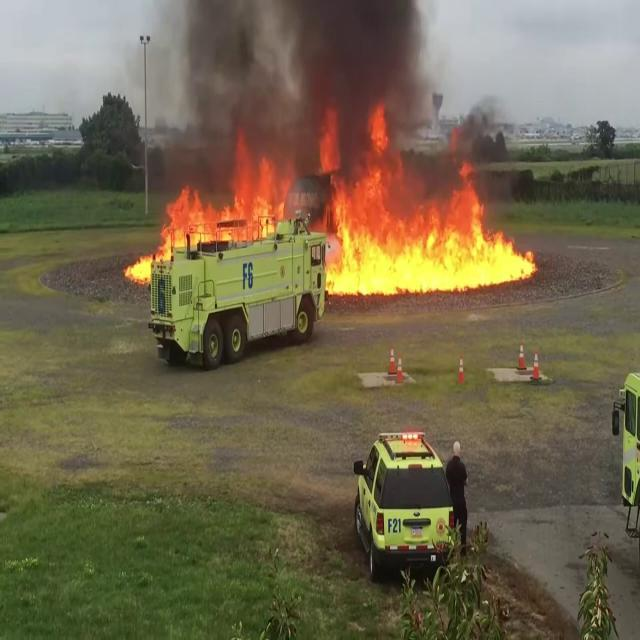Fire: (132, 129, 534, 301)
Smoke: (152, 0, 472, 172)
